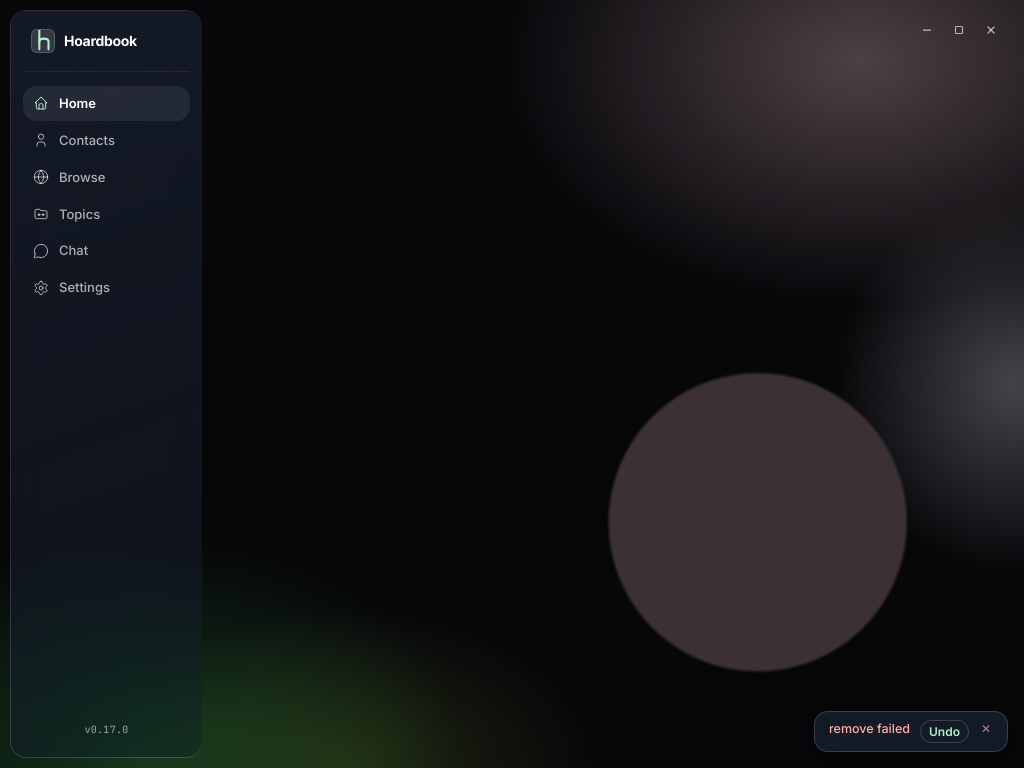
Test case: the layout renders the stack (QURATOR-379) › the single-slot ERROR kind keeps its ✕ (wired to dismissToast) and role=alert
Click the button named "Dismiss" at [986, 728], box [979,720,993,737]
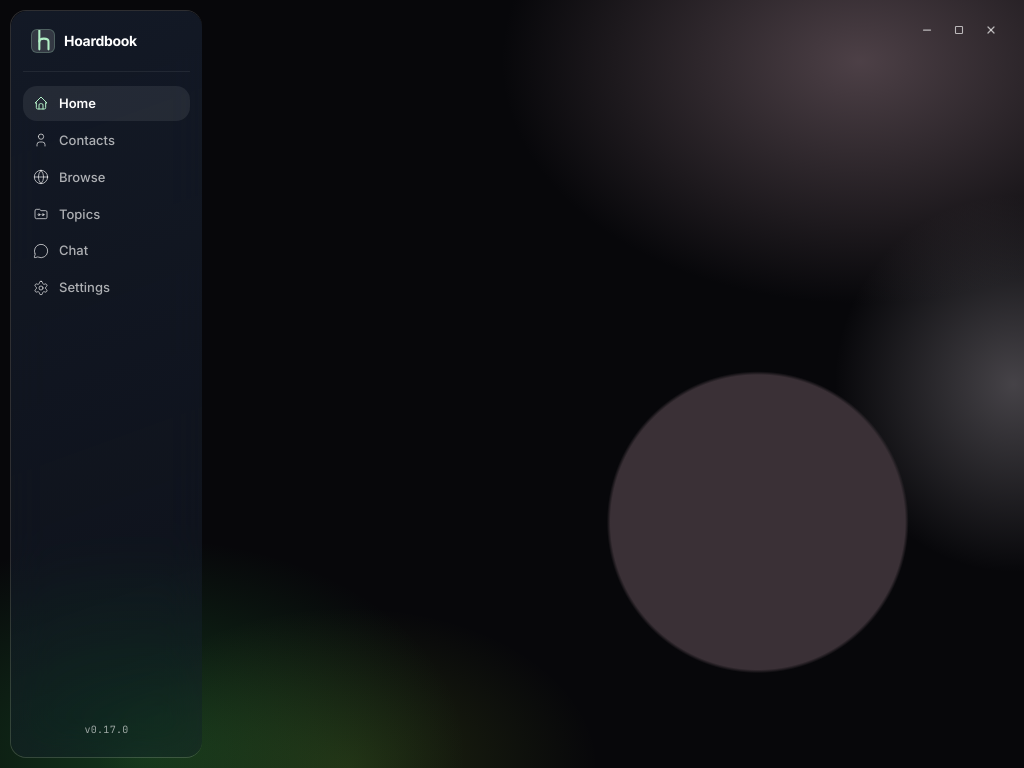
Result: the button "Dismiss" is gone
